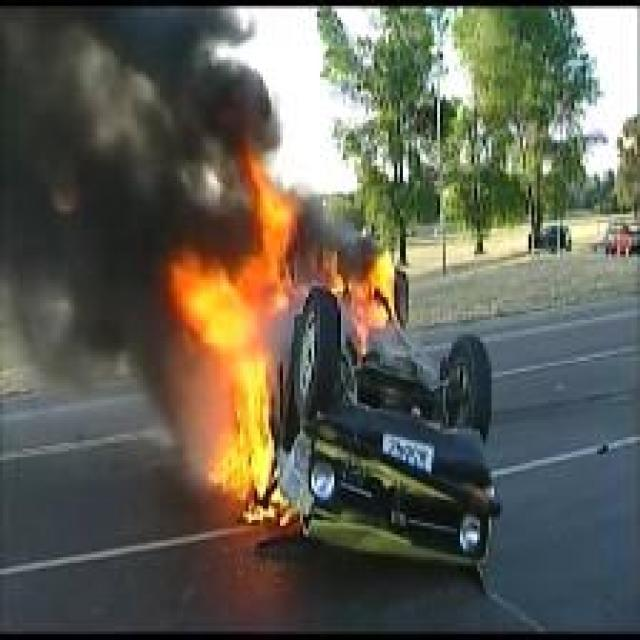Fire: (168, 138, 306, 526), (324, 247, 398, 330)
